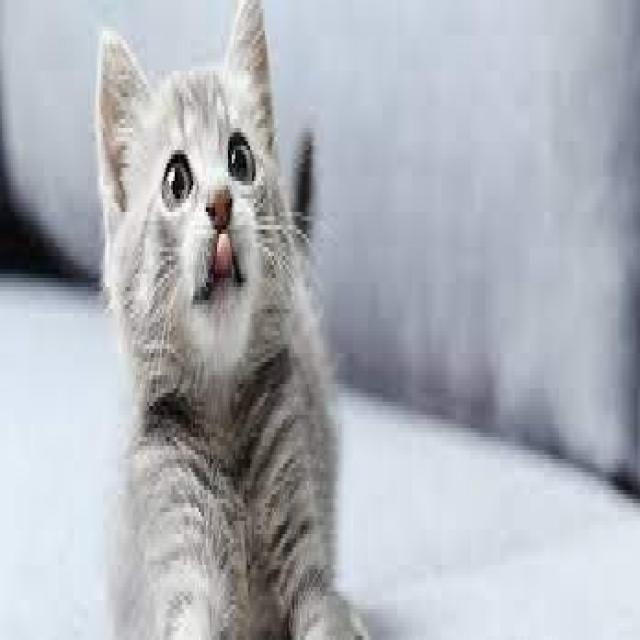Cat: (90, 1, 366, 640)
